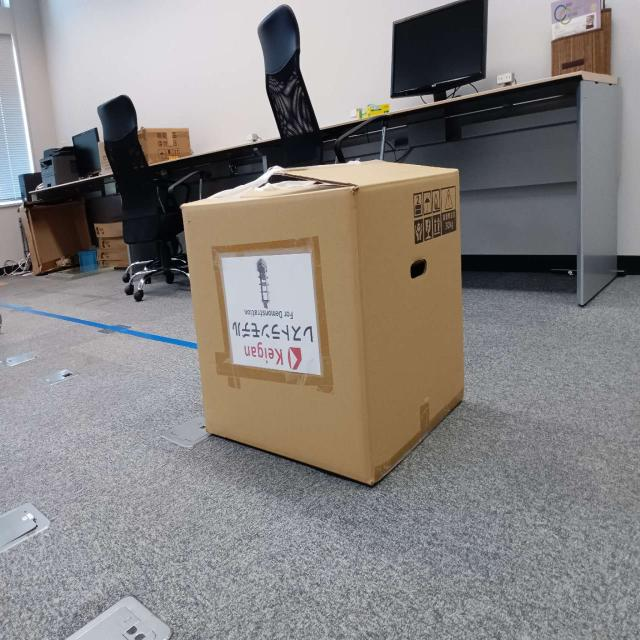box: (179, 163, 475, 495)
